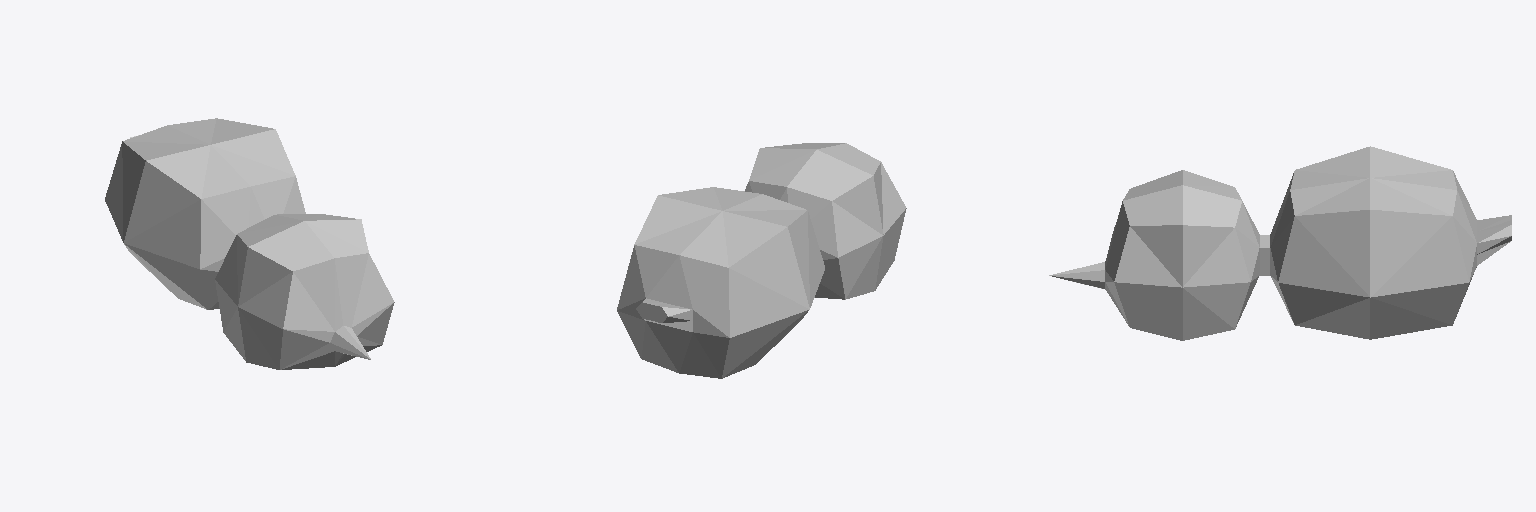
The model's file is bird.obj.
3 renders of one model, left to right at view 1: azimuth 30°, elevation 25°; view 2: azimuth 150°, elevation 25°; view 3: azimuth 270°, elevation 25°, orthographic.
Visible parts, largest first — view 1: Cube_Cube.003; view 2: Cube_Cube.003; view 3: Cube_Cube.003.
Part boxes in pixels (x1,y1,x2,y2): Cube_Cube.003: (105, 118, 394, 369); Cube_Cube.003: (617, 143, 906, 378); Cube_Cube.003: (1049, 146, 1511, 340).
Size of the model in its own units: 2.61 by 2.23 by 6.01.